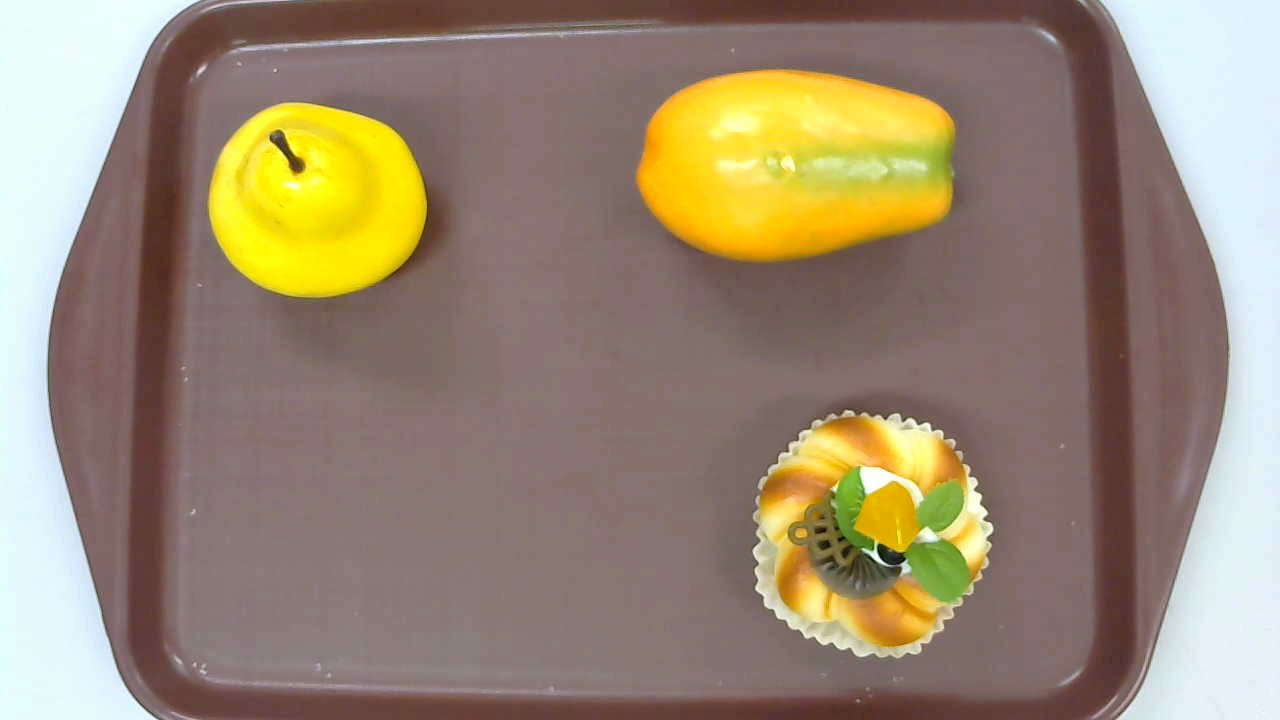fruit tart: (752, 409, 995, 659)
papya: (636, 69, 957, 263)
yellow pear: (207, 103, 428, 302)
